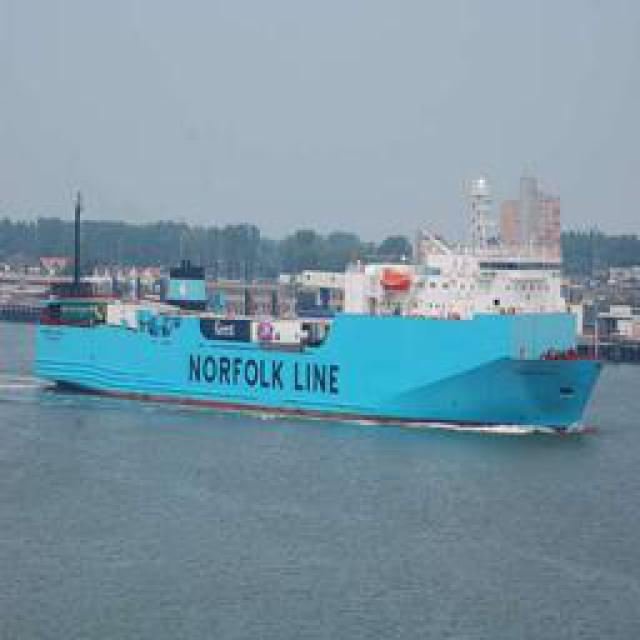Ship: (34, 246, 604, 431)
